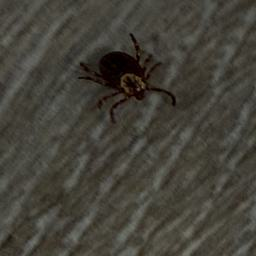Dermacentor variabilis: (74, 34, 177, 125)
